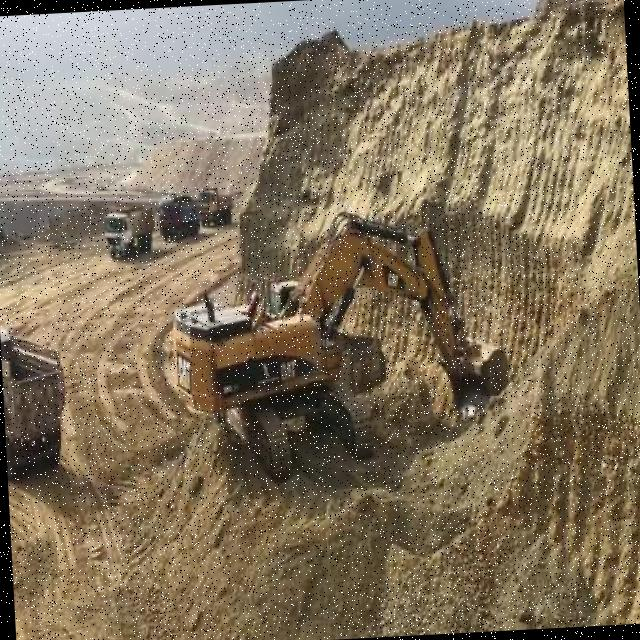Dump Truck: (0, 322, 73, 480), (335, 328, 390, 403), (102, 206, 156, 259), (158, 192, 202, 242), (200, 184, 236, 232)
Excavator: (164, 202, 516, 494)
